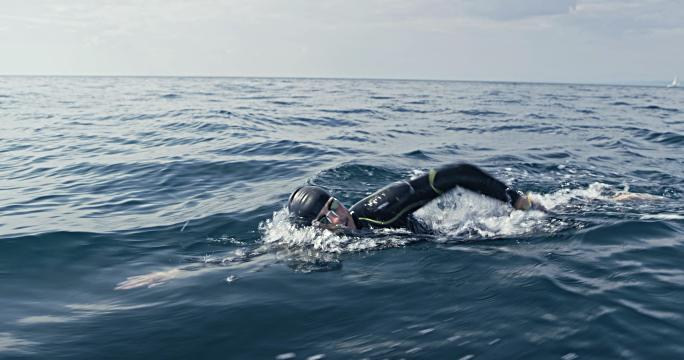swimmer: (286, 164, 540, 248)
